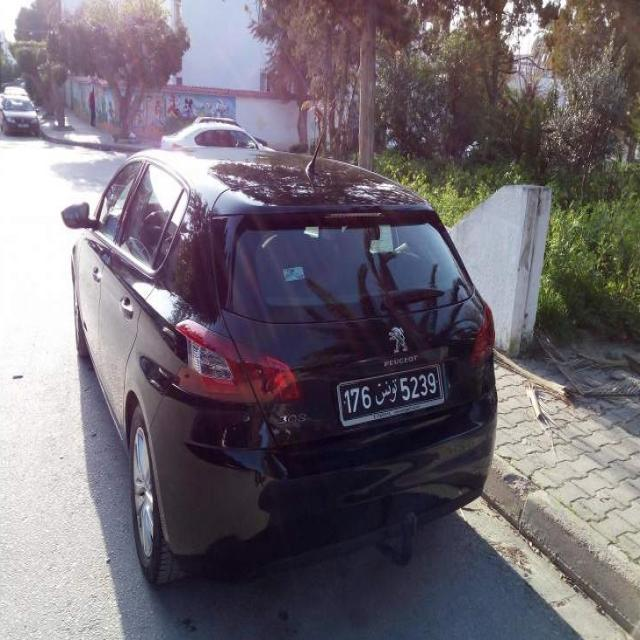licence plate: (338, 366, 440, 422)
